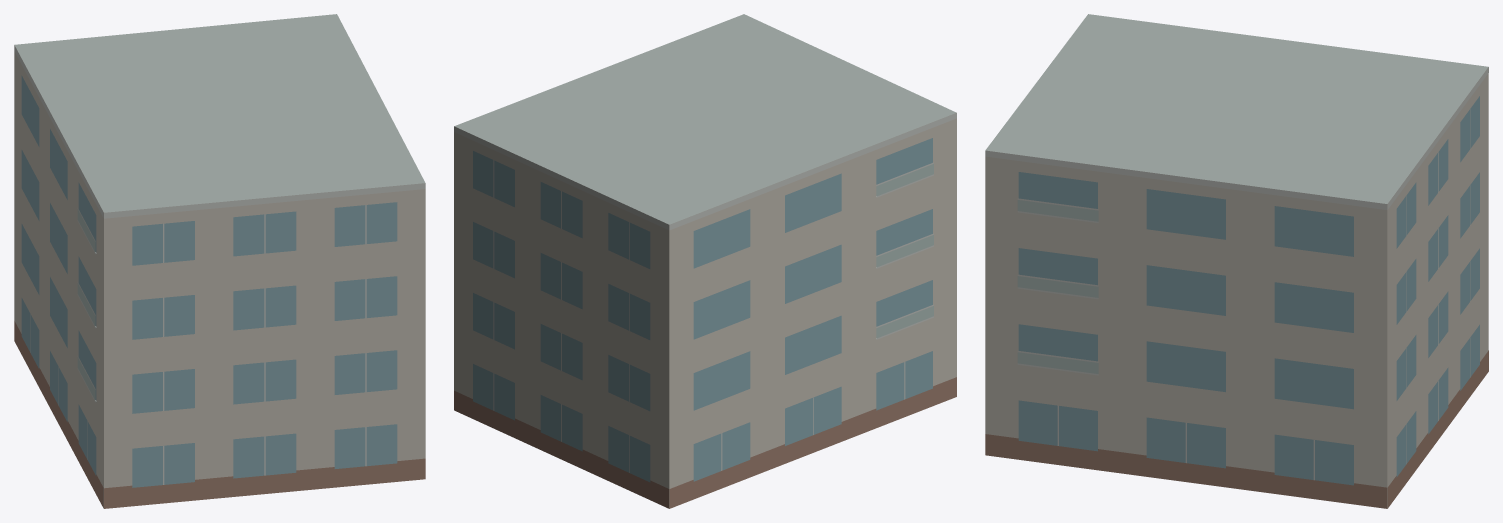
Rendered from survey-upis-32969299.glb.
3 views of the same model, side by side, from view 1: azimuth 30°, elevation 25°; view 2: azimuth 150°, elevation 25°; view 3: azimuth 270°, elevation 25° (orthographic). The views are drawn at different scales.
Parts seen in each view (by area): view 1: survey-upis-32969299.tmp; view 2: survey-upis-32969299.tmp; view 3: survey-upis-32969299.tmp.
Boxes of the visible parts, left/top/right/bottom form: survey-upis-32969299.tmp: left=14, top=14, right=425, bottom=508; survey-upis-32969299.tmp: left=454, top=14, right=956, bottom=508; survey-upis-32969299.tmp: left=985, top=14, right=1488, bottom=508.
Size of the model in its own units: 16.33 by 12.2 by 18.28.
